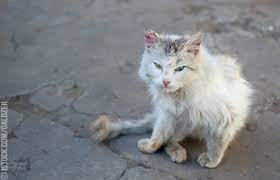cat: (93, 23, 259, 169)
